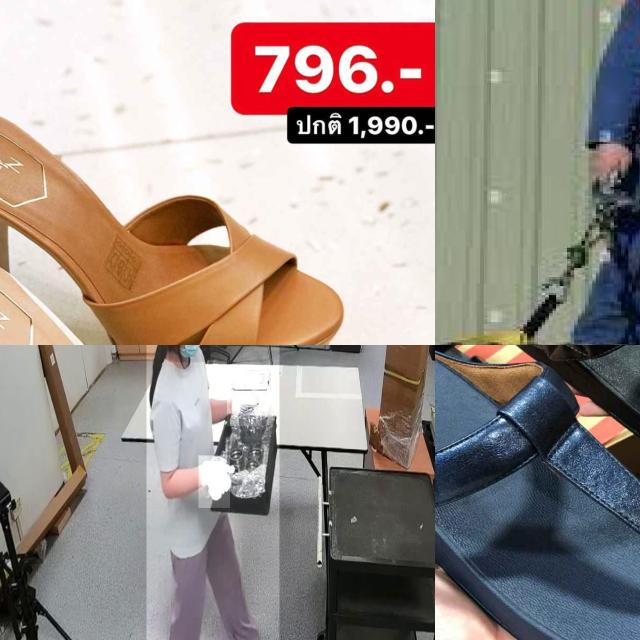Sandals: (0, 76, 356, 345), (435, 345, 640, 640), (0, 240, 353, 345), (471, 345, 640, 500)
face_mask: (168, 345, 209, 362)
hand_glove: (198, 455, 230, 509), (227, 395, 261, 426)
person: (146, 345, 279, 640)
